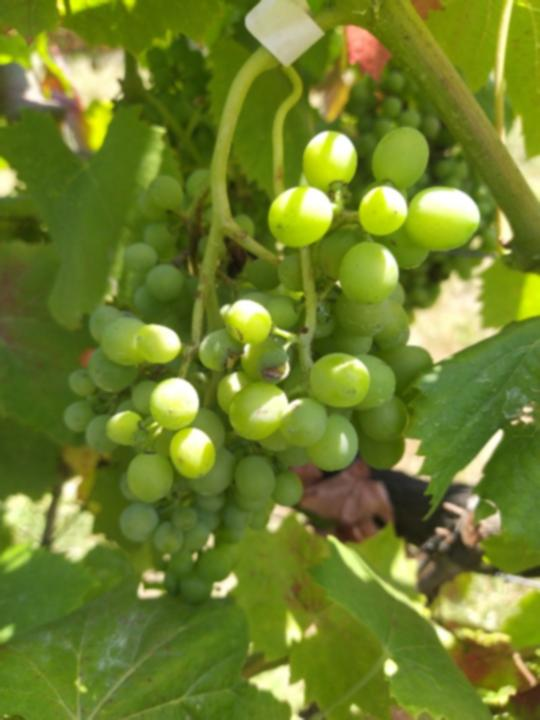grape: (62, 124, 483, 603)
